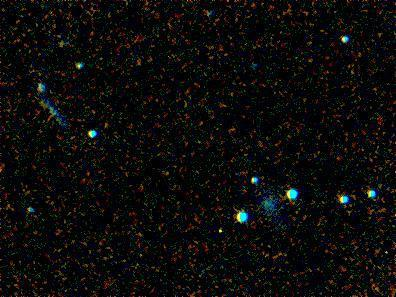star: (203, 215, 233, 245)
